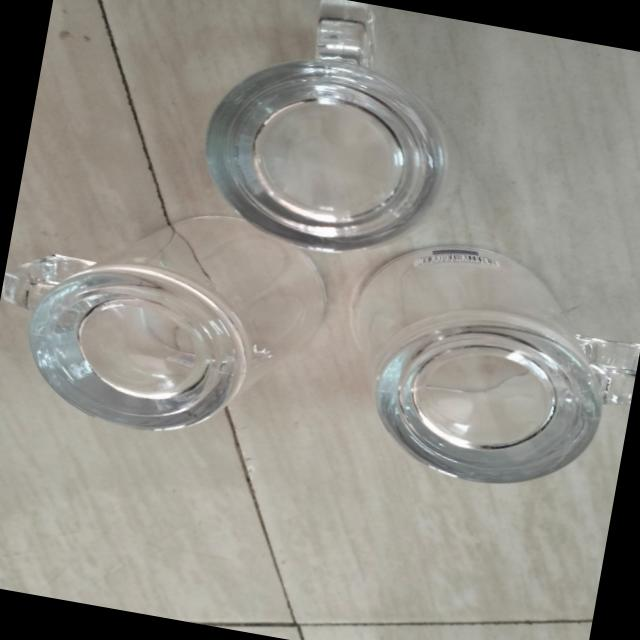glass-VX4N: (0, 197, 345, 465), (329, 227, 640, 505), (202, 0, 472, 267)
